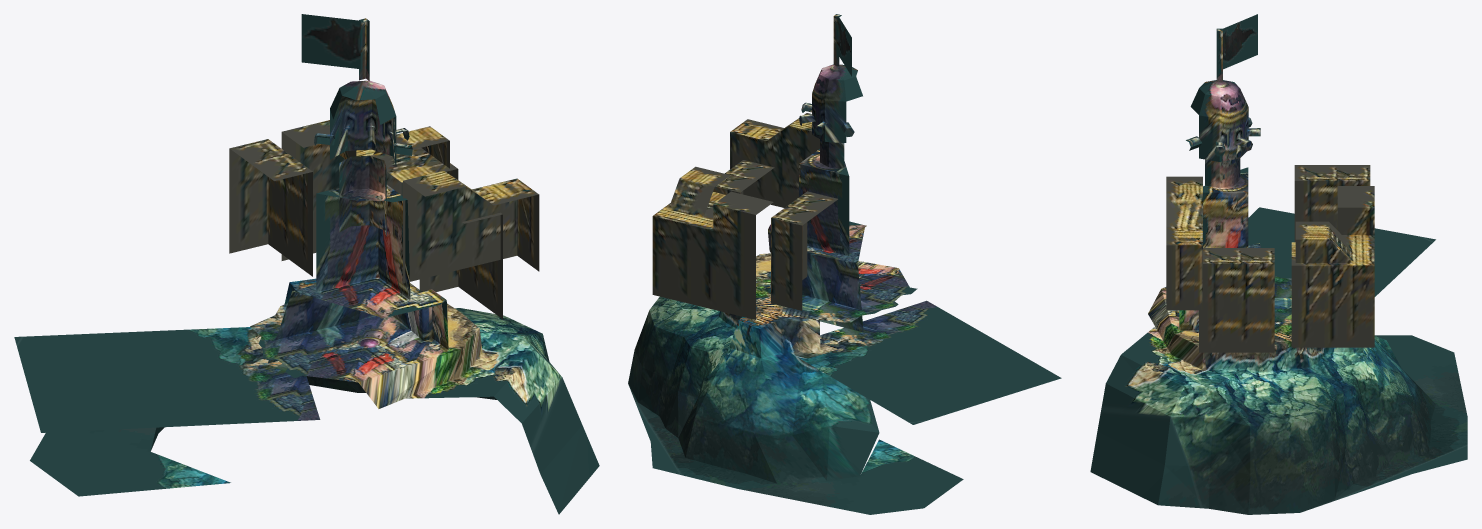
Rendered from F_GuildCannonTower_02.fbx.
3 renders of one model, left to right at view 1: azimuth 30°, elevation 25°; view 2: azimuth 150°, elevation 25°; view 3: azimuth 270°, elevation 25°, orthographic. The views are drawn at different scales.
Visible parts, largest first — view 1: F_GuildCannonTower_02, T_BuildForm_03 (1), T_BuildForm_02 (4), T_BuildForm_01, T_BuildForm_02 (5); view 2: F_GuildCannonTower_02, T_BuildForm_01, T_BuildForm_03 (1), T_BuildForm_02 (4), T_BuildForm_02 (5); view 3: F_GuildCannonTower_02, T_BuildForm_01, T_BuildForm_02 (5), T_BuildForm_03 (1), T_BuildForm_02 (4).
Boxes of the visible parts, x1,y1,x2,y2 form: F_GuildCannonTower_02: (14, 14, 599, 514); T_BuildForm_03 (1): (403, 171, 539, 283); T_BuildForm_02 (4): (229, 139, 312, 276); T_BuildForm_01: (281, 120, 458, 260); T_BuildForm_02 (5): (419, 212, 502, 319); F_GuildCannonTower_02: (628, 14, 1061, 514); T_BuildForm_01: (652, 166, 773, 319); T_BuildForm_03 (1): (730, 113, 819, 207); T_BuildForm_02 (4): (771, 191, 837, 310); T_BuildForm_02 (5): (713, 160, 774, 194); F_GuildCannonTower_02: (1090, 14, 1467, 514); T_BuildForm_01: (1291, 186, 1374, 347); T_BuildForm_02 (5): (1199, 248, 1274, 352); T_BuildForm_03 (1): (1166, 176, 1202, 310); T_BuildForm_02 (4): (1294, 165, 1370, 242).
Size of what is drawn, in the model's own units: 1.64 by 1.43 by 1.23.
2 materials, 2 textured.
